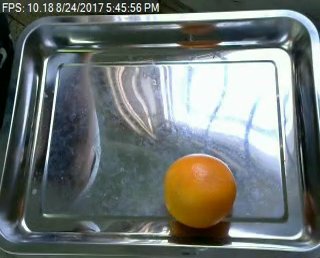Orange: (164, 152, 237, 228)
